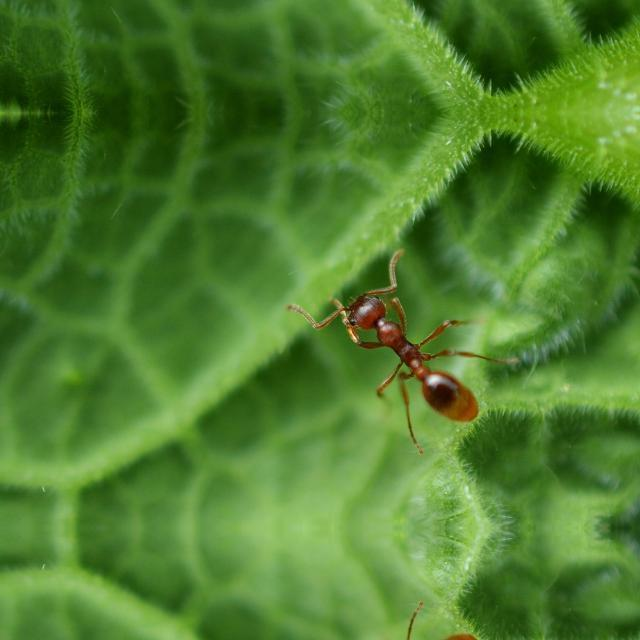Myrmica: (296, 266, 518, 438)
